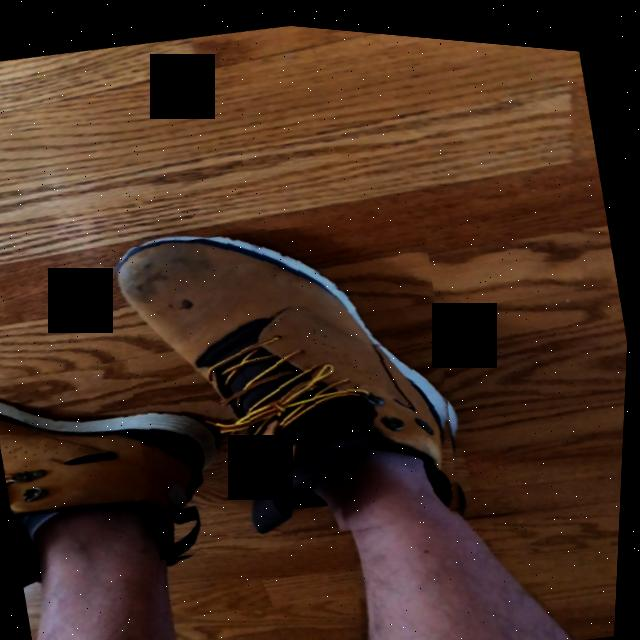shoe: (116, 237, 457, 526)
